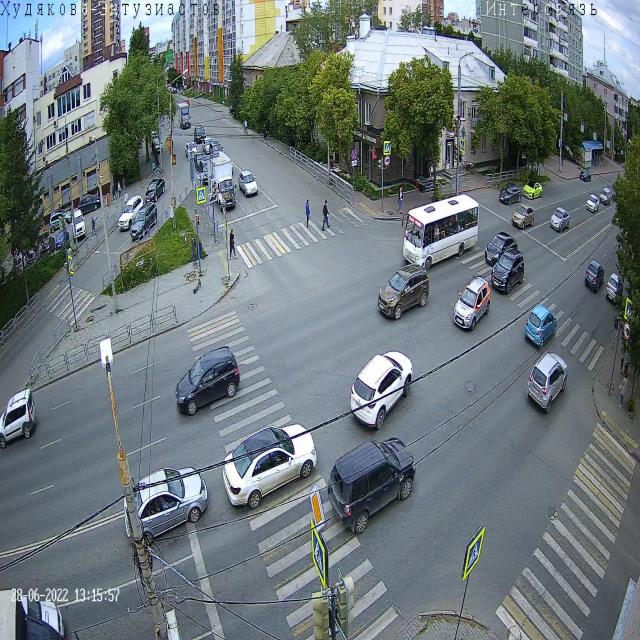bicycle: (243, 119, 250, 136)
car: (327, 436, 416, 536), (222, 422, 318, 510), (123, 465, 209, 547), (349, 349, 414, 431), (175, 346, 240, 416), (0, 586, 65, 640), (378, 263, 430, 321), (526, 351, 568, 415), (0, 386, 38, 450), (453, 275, 491, 332), (490, 247, 524, 295), (524, 303, 557, 349), (485, 231, 518, 267), (130, 202, 158, 240), (118, 194, 144, 230), (584, 259, 604, 293), (606, 272, 624, 306), (238, 169, 258, 198), (498, 182, 522, 206), (512, 203, 534, 229), (144, 178, 165, 204), (550, 206, 570, 233), (199, 158, 216, 185), (522, 180, 543, 200), (209, 140, 225, 162), (218, 155, 234, 177), (194, 151, 208, 171), (586, 194, 599, 214), (185, 141, 198, 160), (194, 124, 206, 144), (202, 137, 215, 155), (600, 187, 611, 206), (580, 167, 592, 183), (152, 137, 162, 153), (150, 125, 158, 138), (183, 98, 190, 106)
pedestrian: (619, 373, 628, 409), (229, 228, 238, 261), (622, 346, 630, 381), (322, 198, 330, 232), (190, 236, 198, 266), (620, 341, 626, 377), (398, 187, 403, 215), (306, 199, 310, 229), (91, 216, 96, 240), (263, 124, 268, 141), (124, 191, 128, 212), (152, 158, 156, 177), (140, 172, 143, 190), (562, 151, 564, 167), (595, 155, 597, 168), (599, 156, 601, 168)
shuttle_taxi: (403, 193, 479, 270)
truck: (0, 589, 70, 640), (206, 151, 237, 213), (177, 102, 191, 129)
